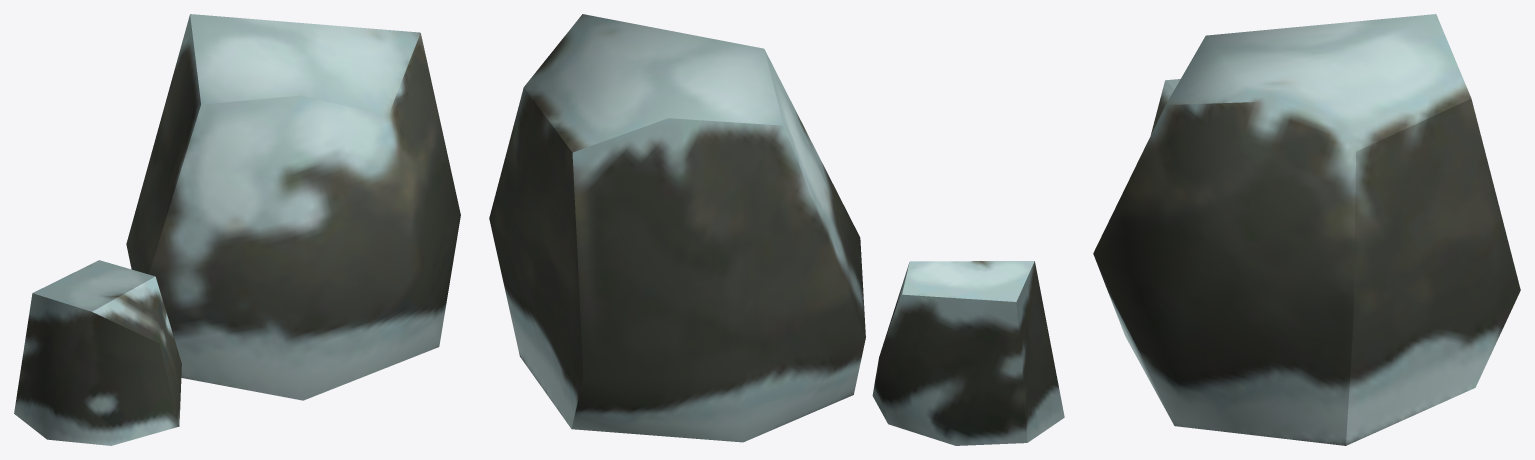
3 views of the same model, side by side, from view 1: azimuth 30°, elevation 25°; view 2: azimuth 150°, elevation 25°; view 3: azimuth 270°, elevation 25° (orthographic). The views are drawn at different scales.
Parts seen in each view (by area): view 1: X_wj4; view 2: X_wj4; view 3: X_wj4.
Boxes of the visible parts, box(x1,y1,x2,y2) form: X_wj4: box(14, 14, 460, 445); X_wj4: box(489, 14, 1064, 445); X_wj4: box(1093, 14, 1520, 445).
Bounding box in the file's own units: 94.53 × 58.01 × 66.97.
1 material, 1 textured.
